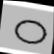no answer: (11, 14, 50, 48)
